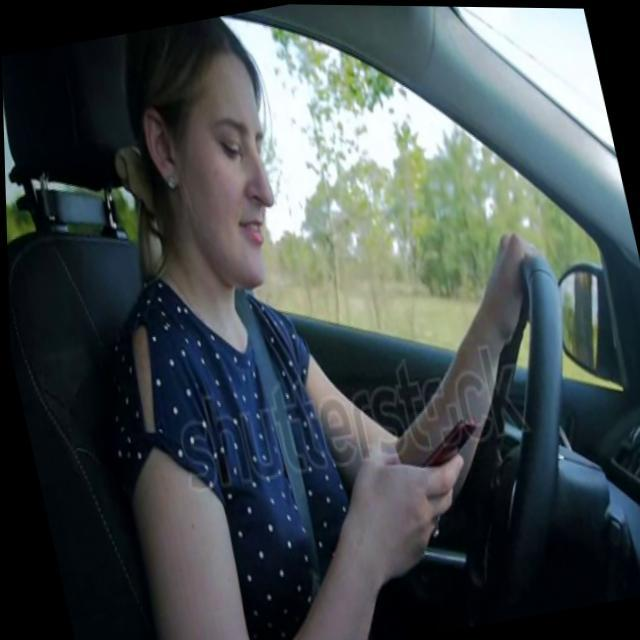PhoneCall: (396, 413, 486, 485)
